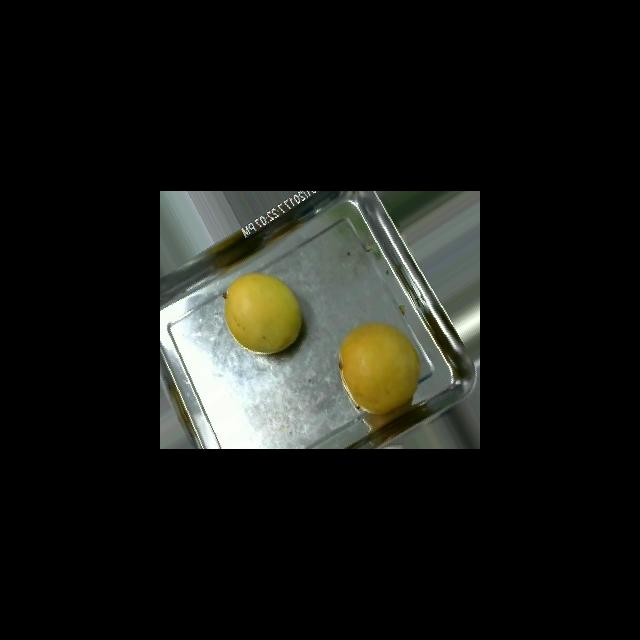mango: (338, 321, 420, 415), (223, 272, 302, 354)
